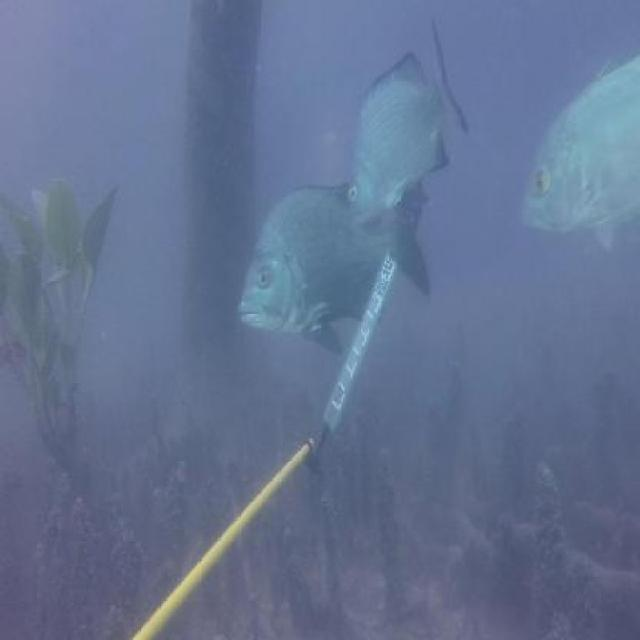Caranx: (518, 48, 640, 254)
acanthopagrus_palmaris: (236, 169, 439, 360), (344, 13, 474, 229)
